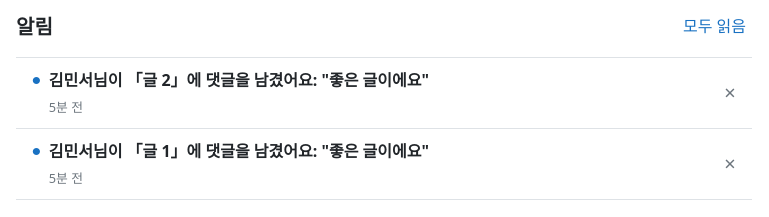
it: NotificationsPage › [×]를 누르면 지우고 목록에서 뺀다
This screenshot has width=769, height=217.
Click the button named "알림 삭제" at (730, 93), box top-left (708, 58), bottom-right (752, 128)
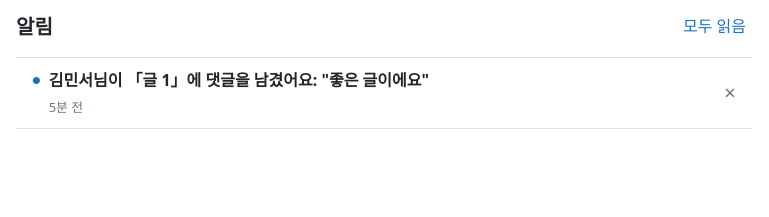
Check: the button "글 2" is gone
